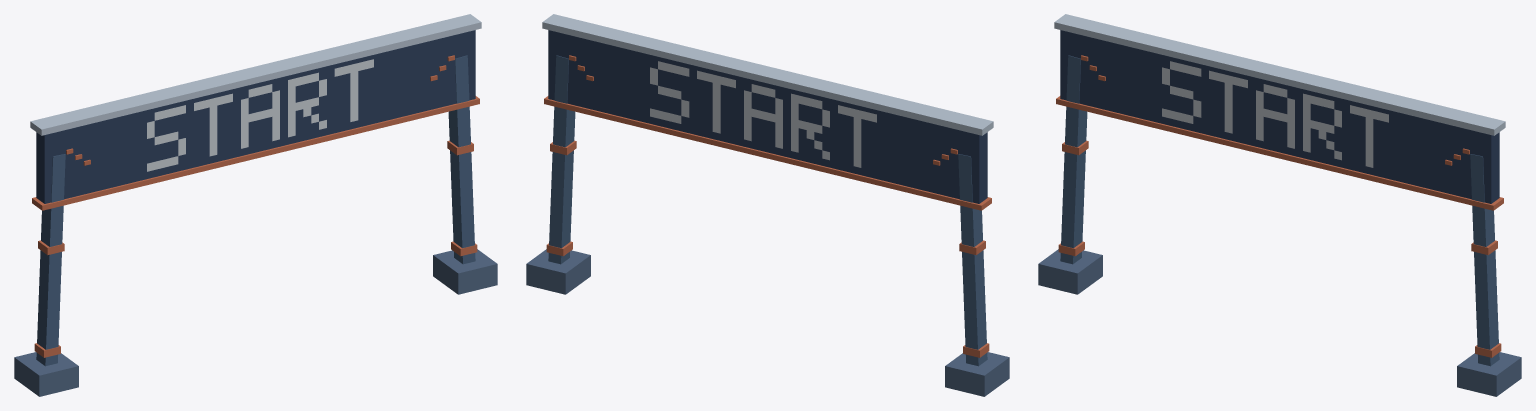
File: start.glb
3 views of the same model, side by side, from view 1: azimuth 30°, elevation 25°; view 2: azimuth 150°, elevation 25°; view 3: azimuth 330°, elevation 25° (orthographic).
Visible parts, largest first — view 1: start; view 2: start; view 3: start.
Part boxes in pixels (x1,y1,x2,y2): start: [14, 14, 497, 396]; start: [526, 14, 1009, 396]; start: [1038, 14, 1521, 396].
Size of the model in its own units: 9.89 by 5.36 by 0.94.
